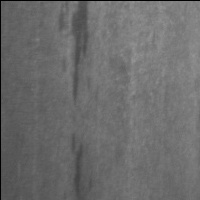inclusion: (62, 2, 95, 110), (64, 130, 89, 200)
